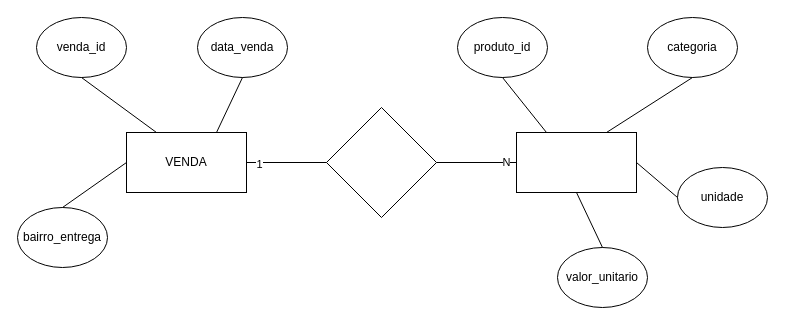
Some shapes in this 785 by 325 pixel diagram are drawn without their labels. Each missing label, with the centre of its shape:
HORTIFRUTI (POSSUI): (381,162)
PRODUTO: (576,162)
